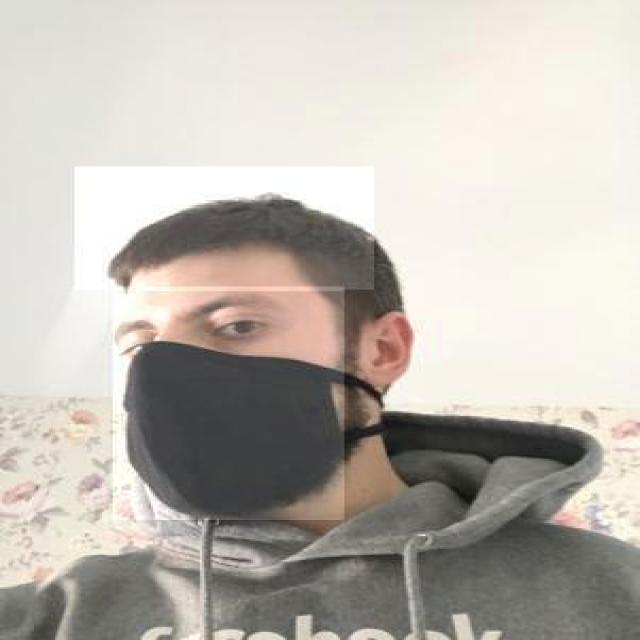face_mask: (112, 286, 346, 522)
head_nohelmet: (75, 166, 376, 292)
